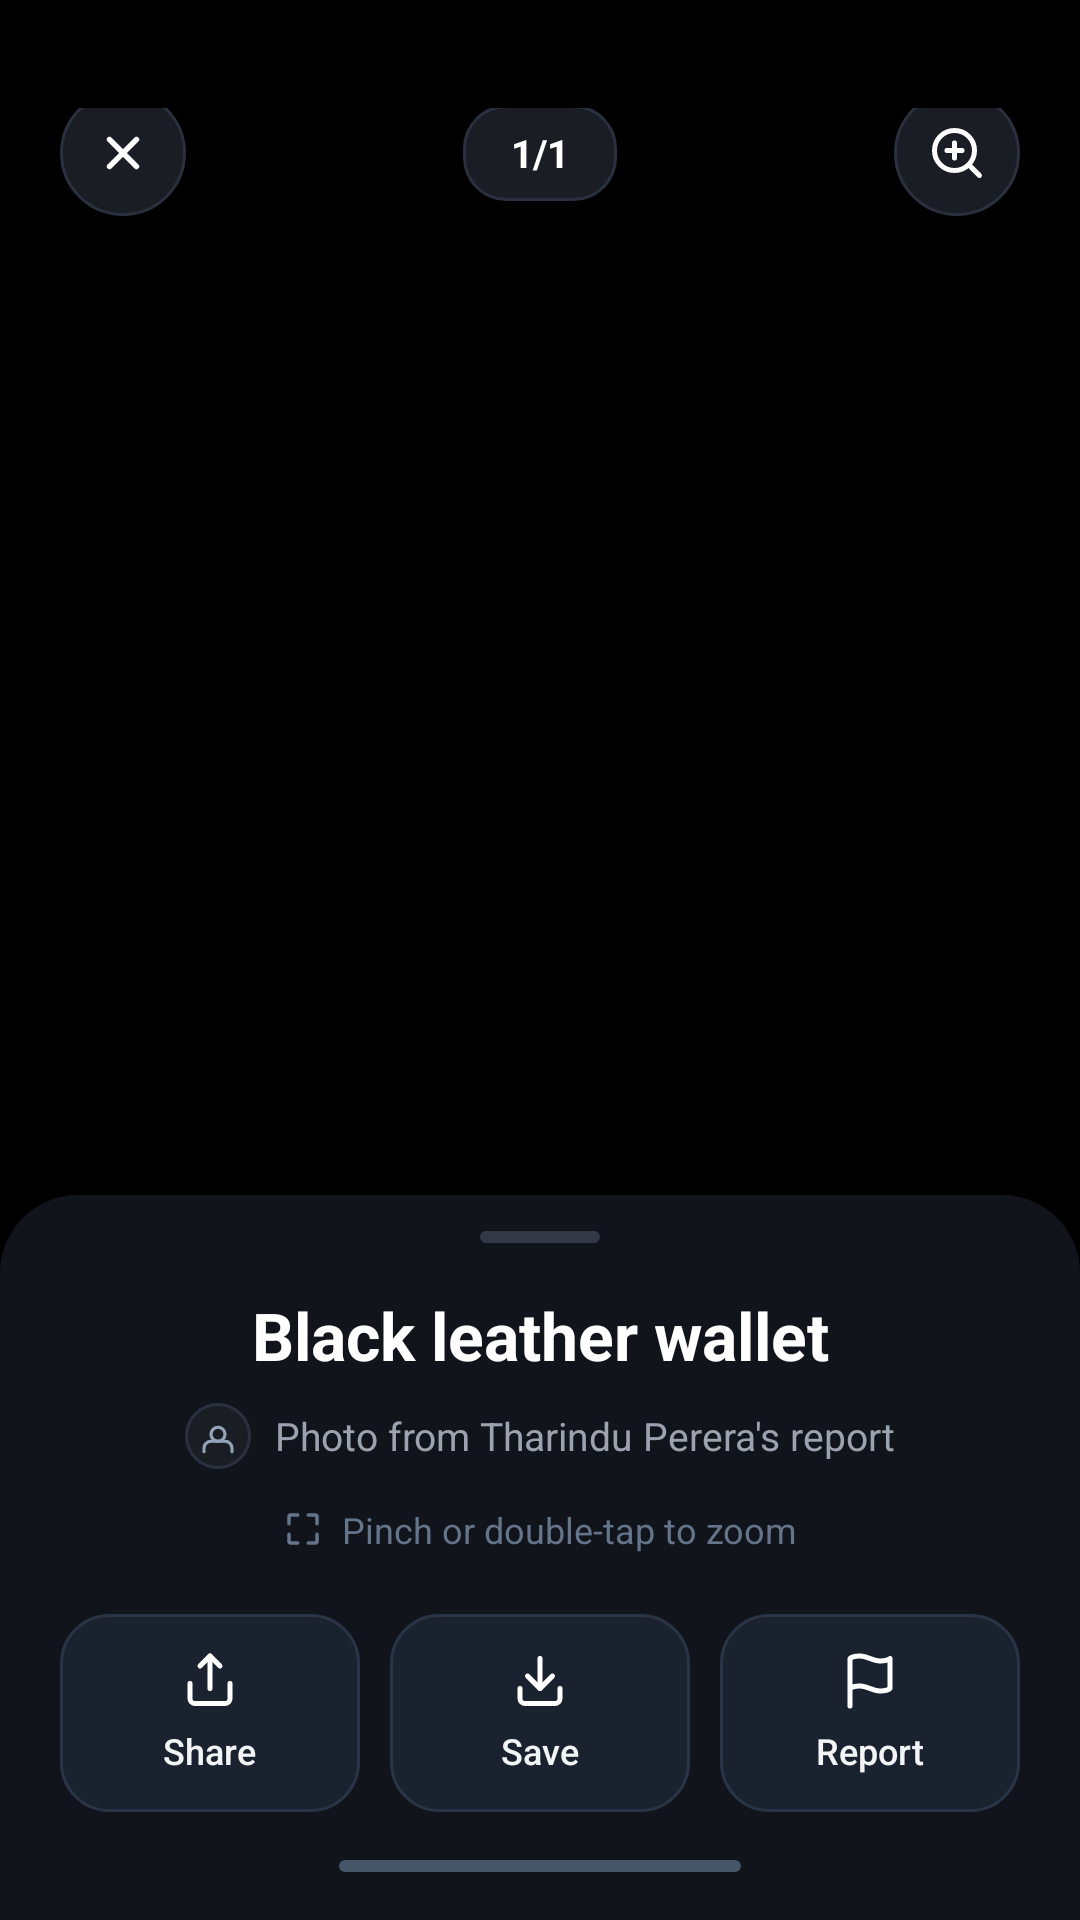

Point at icon controls on the screen. Image size 1080px x 1920px, points as [x,y].
Close: [123,153]
Reporter icon: [218,1439]
Zoom: [957,153]
Zoom hint: [303,1529]
